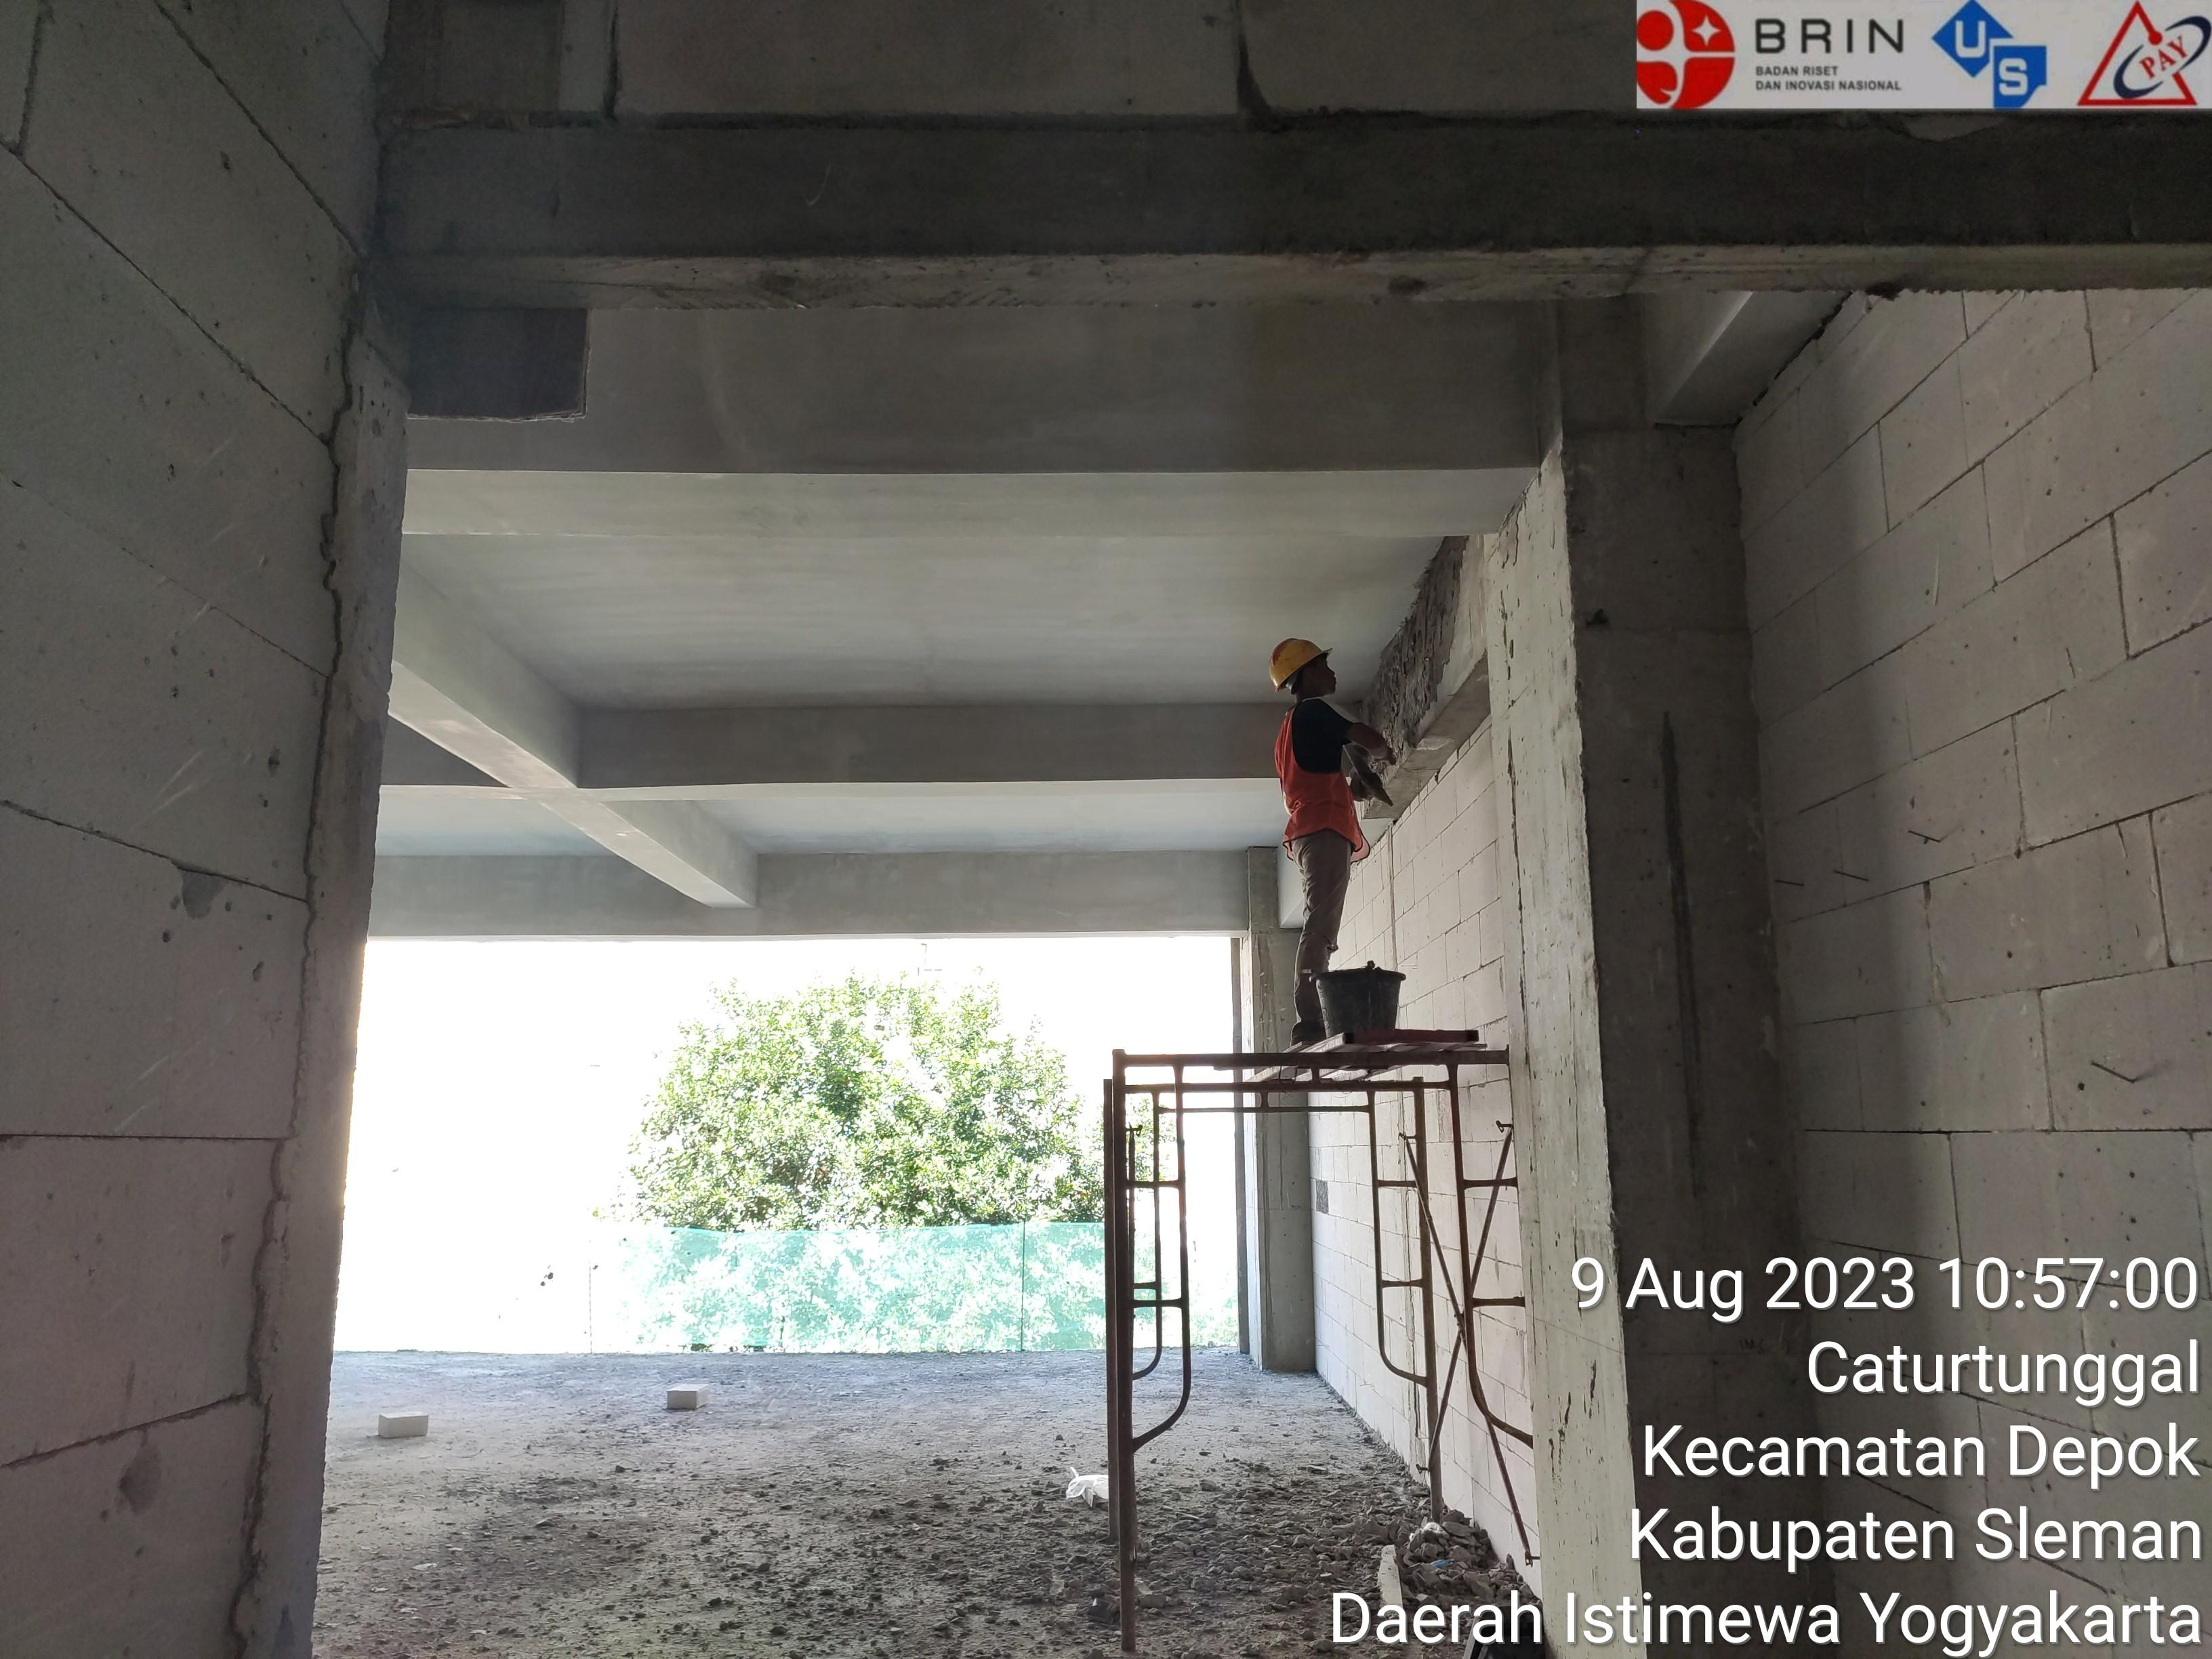hat: (1254, 584, 1369, 716)
vest: (1231, 695, 1400, 910)
